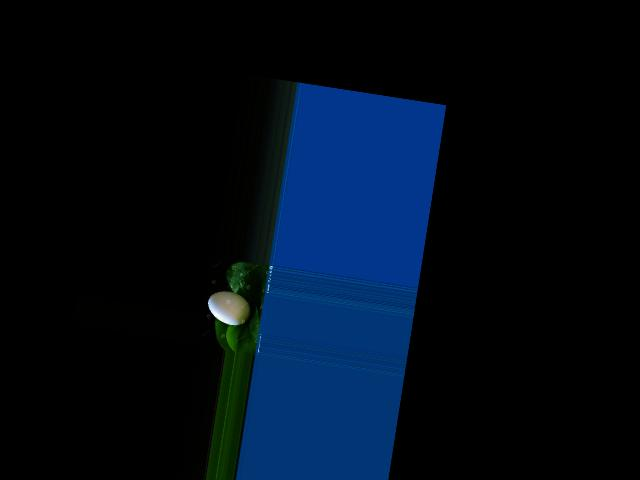egg: (205, 288, 253, 328)
